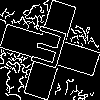E: (25, 25, 70, 79)
